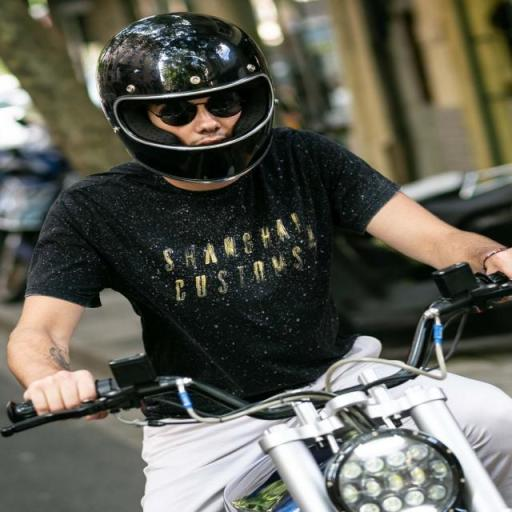Helmet: (97, 13, 274, 182)
Motor: (2, 265, 511, 511), (0, 145, 75, 301), (332, 232, 437, 343)
